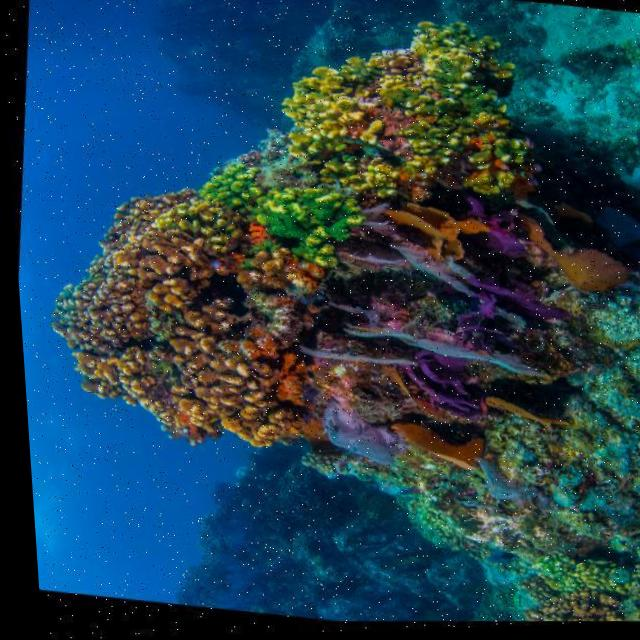Healthy Coral: (25, 179, 330, 477), (193, 154, 362, 274), (257, 48, 401, 179), (385, 104, 537, 216), (402, 17, 530, 118)
